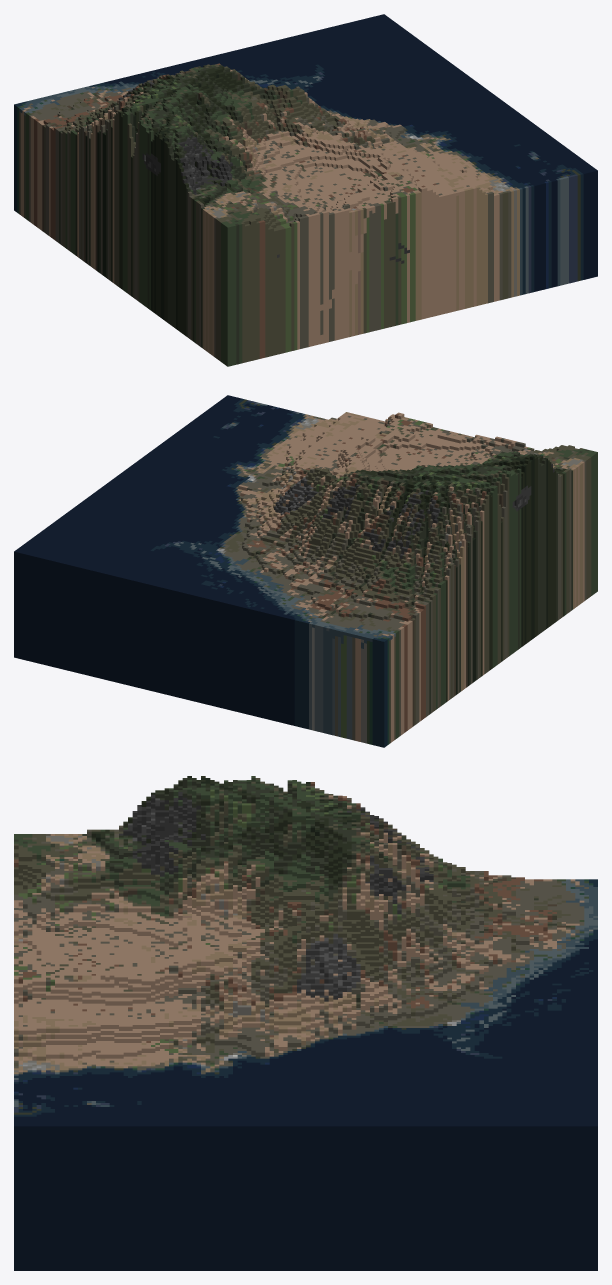
File: MapⅤ3-0.obj
The picture shows the model from 3 angles, top to bottom: view 1: azimuth 30°, elevation 25°; view 2: azimuth 150°, elevation 25°; view 3: azimuth 270°, elevation 25°; orthographic projection. The views are drawn at different scales.
Bounding box in the file's own units: 12.8 × 6.1 × 12.8.
Materials: 1 (1 with a texture image).
